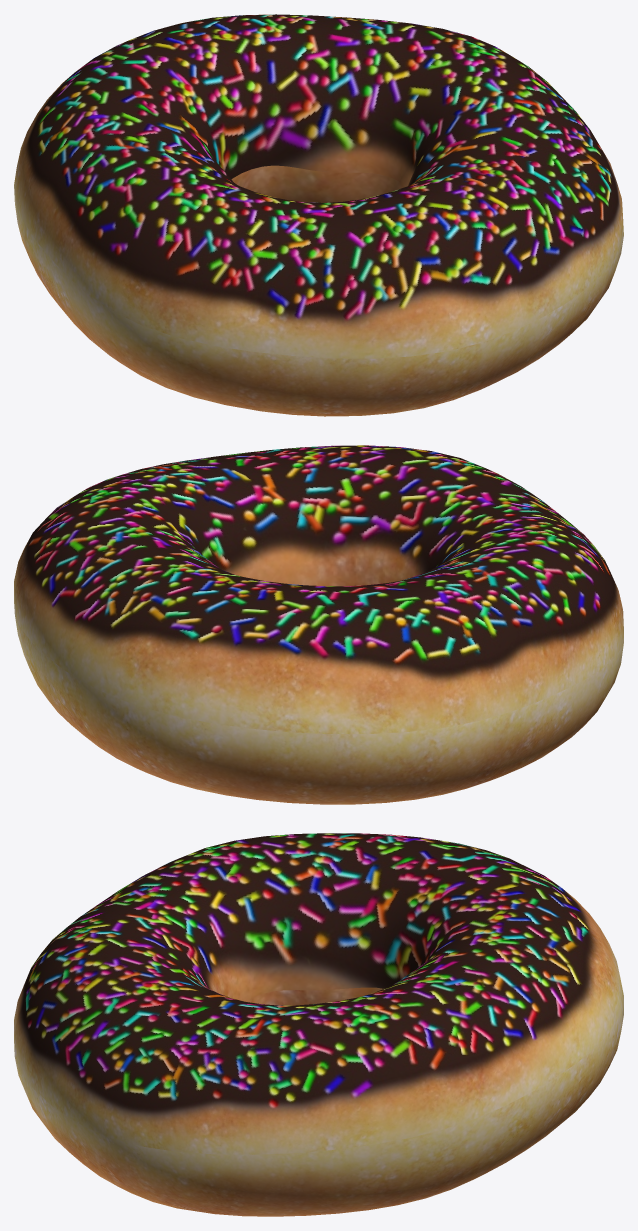
The model's file is Donut11.obj.
3 renders of one model, top to bottom at view 1: azimuth 30°, elevation 25°; view 2: azimuth 150°, elevation 25°; view 3: azimuth 270°, elevation 25°, orthographic.
Parts seen in each view (by area): view 1: donut081; view 2: donut081; view 3: donut081.
Boxes of the visible parts, x1,y1,x2,y2 form: donut081: [14, 14, 623, 416]; donut081: [14, 445, 623, 804]; donut081: [14, 833, 623, 1216].
Bounding box in the file's own units: 9.35 × 3.88 × 9.66.
Materials: 1 (1 with a texture image).
